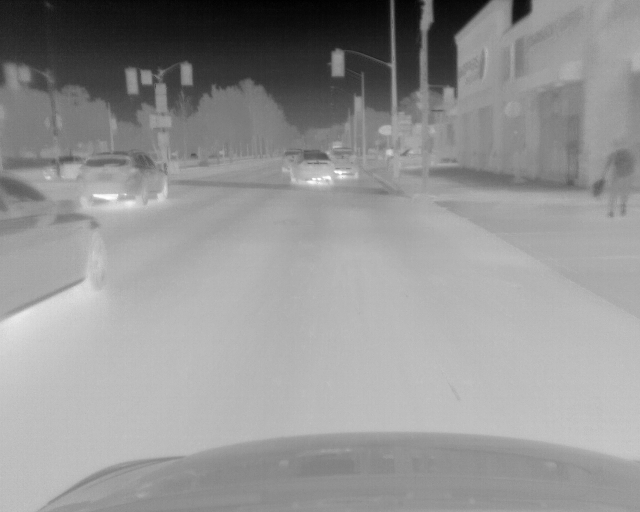car: (1, 164, 109, 324), (76, 149, 170, 209), (289, 148, 332, 184), (40, 155, 87, 181), (329, 147, 359, 182), (279, 149, 298, 175)
people: (592, 137, 634, 218)
